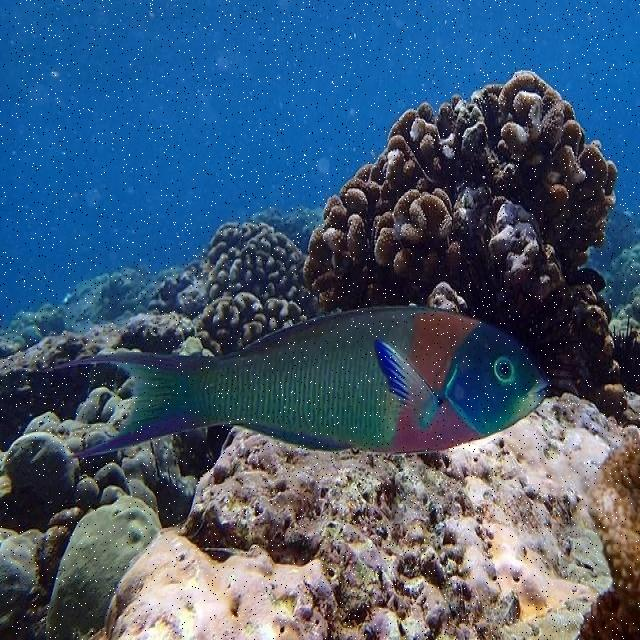fish: (39, 306, 547, 456)
reefs: (303, 102, 460, 304), (482, 70, 617, 265), (194, 221, 307, 352), (578, 427, 638, 639)
